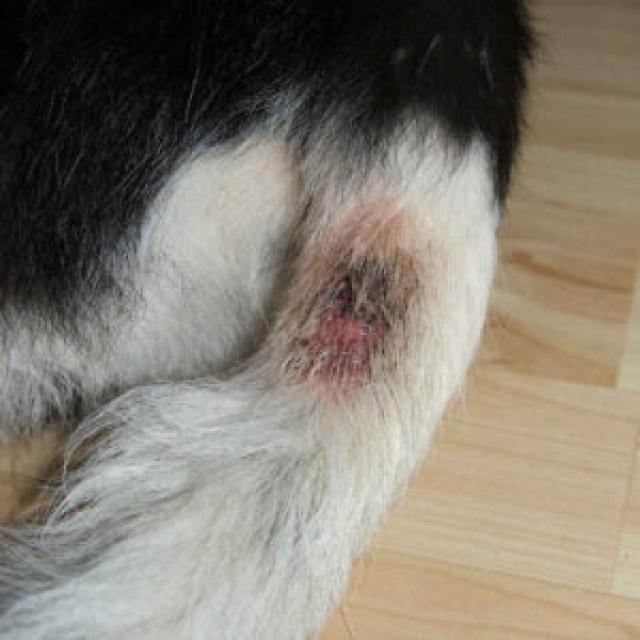nhiem nam (cho): (0, 0, 527, 631)
